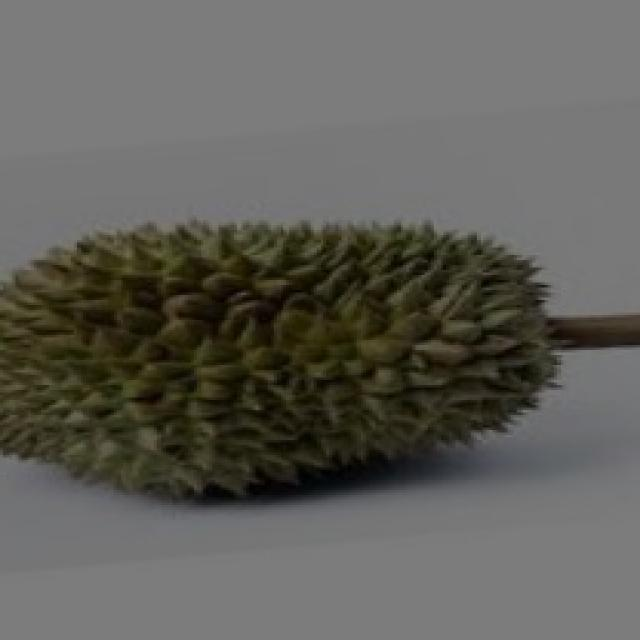fruit: (0, 168, 366, 560), (228, 170, 588, 528)
